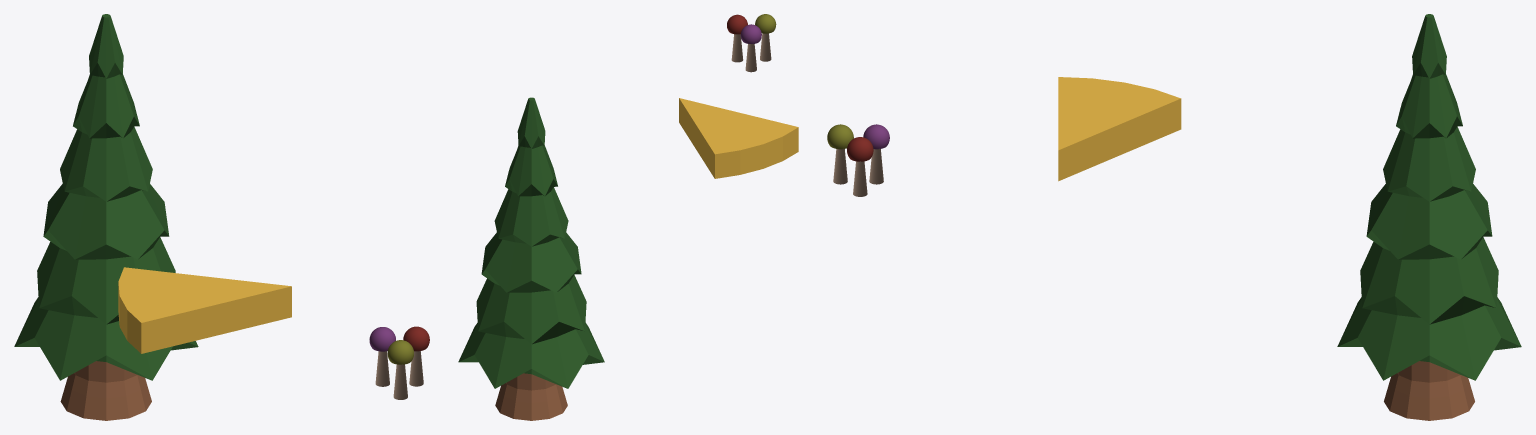
The model's file is agac.fbx.
The picture shows the model from 3 angles, left to right: view 1: azimuth 30°, elevation 25°; view 2: azimuth 150°, elevation 25°; view 3: azimuth 270°, elevation 25°; orthographic projection. The views are drawn at different scales.
Parts seen in each view (by area): view 1: Cube, Circle, Circle.001, Circle.002, Circle.003; view 2: Cube, Circle, Circle.002, Circle.001, Circle.003; view 3: Cube, Circle, Circle.003, Circle.001, Circle.002.
Boxes of the visible parts, x1=… form: Cube: x1=14, y1=14, x2=198, y2=420; Circle: x1=118, y1=267, x2=291, y2=353; Circle.001: x1=387, y1=340, x2=413, y2=399; Circle.002: x1=369, y1=327, x2=395, y2=386; Circle.003: x1=403, y1=326, x2=429, y2=386; Cube: x1=458, y1=97, x2=604, y2=420; Circle: x1=679, y1=98, x2=798, y2=178; Circle.002: x1=740, y1=24, x2=761, y2=72; Circle.001: x1=755, y1=14, x2=776, y2=61; Circle.003: x1=727, y1=14, x2=747, y2=62; Cube: x1=1337, y1=14, x2=1521, y2=420; Circle: x1=1058, y1=77, x2=1181, y2=181; Circle.003: x1=847, y1=137, x2=873, y2=196; Circle.001: x1=827, y1=124, x2=853, y2=184; Circle.002: x1=863, y1=124, x2=889, y2=184.
Bounding box in the file's own units: 350 × 580 × 946.
